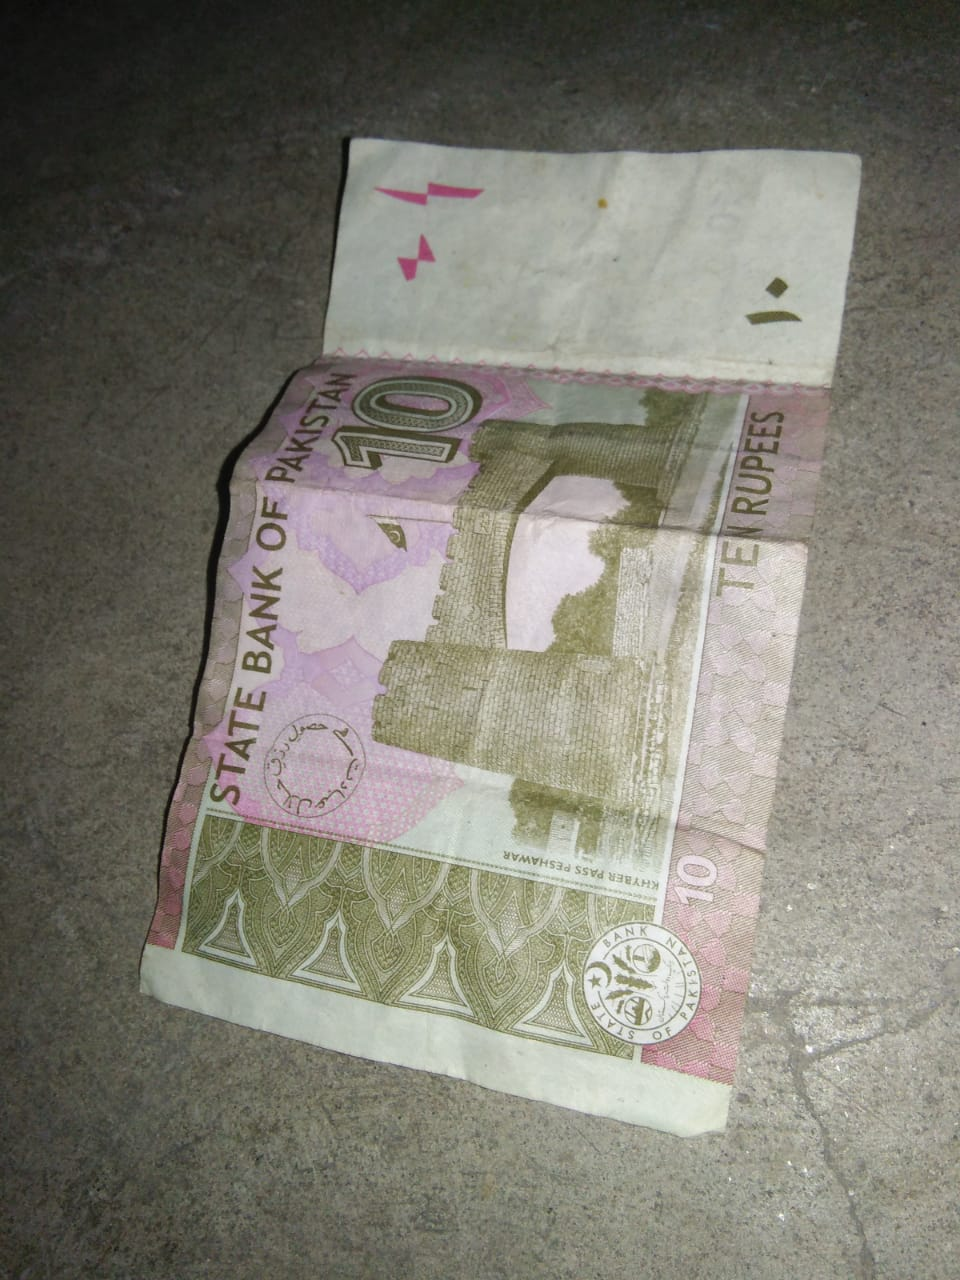10 rupee: (110, 101, 869, 1149)
